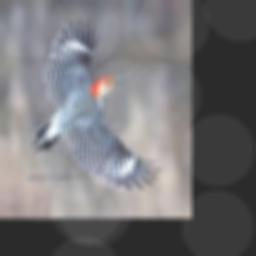Woodpecker: (30, 17, 162, 191)
